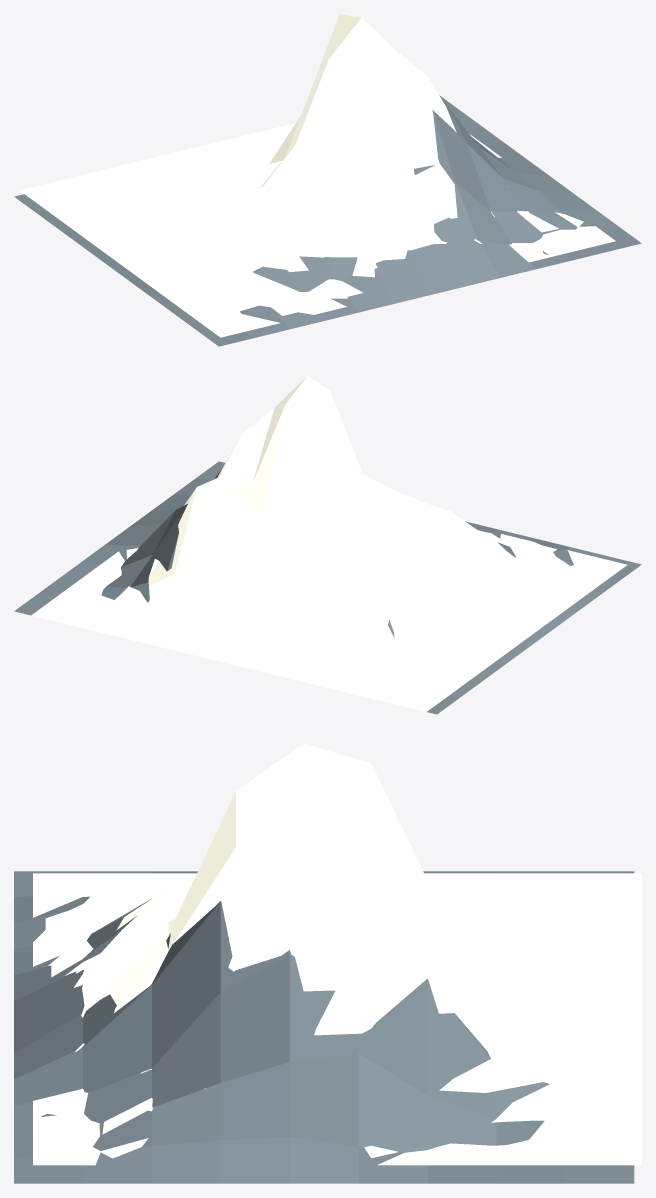
Rendered from MountainAsset2.fbx.
3 renders of one model, top to bottom at view 1: azimuth 30°, elevation 25°; view 2: azimuth 150°, elevation 25°; view 3: azimuth 270°, elevation 25°, orthographic. The views are drawn at different scales.
Visible parts, largest first — view 1: Mountain2; view 2: Mountain2; view 3: Mountain2.
Part boxes in pixels (bbox=[...]): Mountain2: bbox=[14, 14, 641, 346]; Mountain2: bbox=[14, 375, 641, 714]; Mountain2: bbox=[14, 743, 641, 1183].
Size of the model in its own units: 2063 by 937 by 1753.
